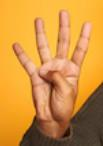right: (10, 9, 92, 127)
